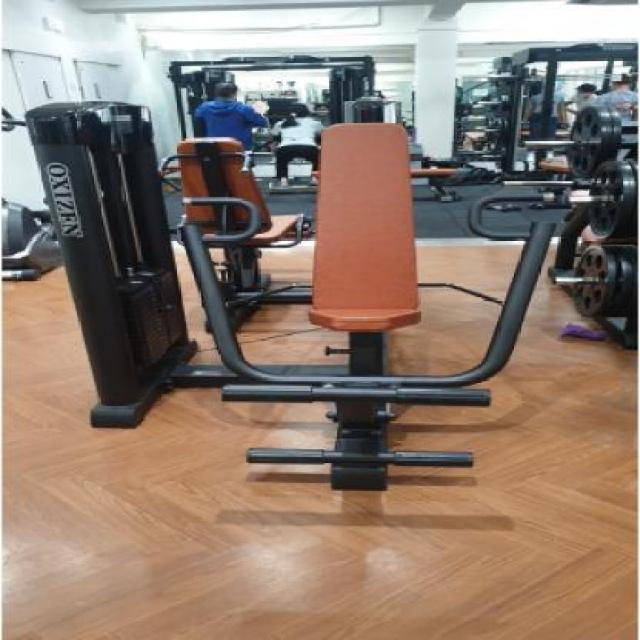Chest Press machine: (23, 88, 595, 537)
